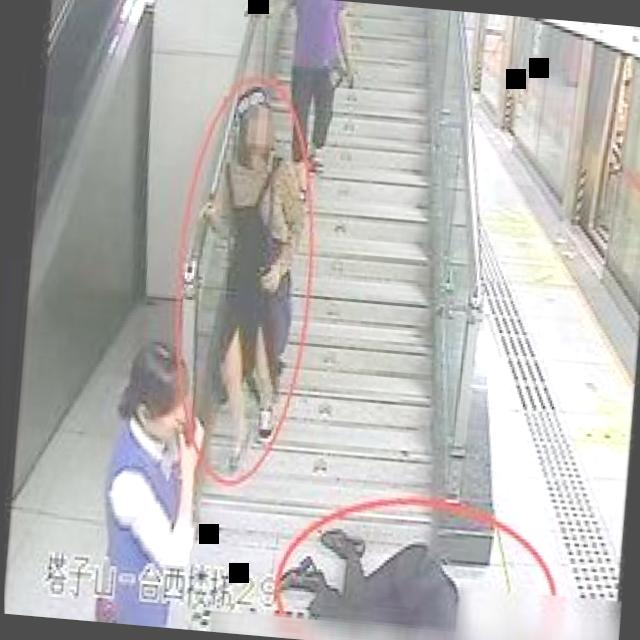Fall-Detected: (252, 495, 493, 640)
